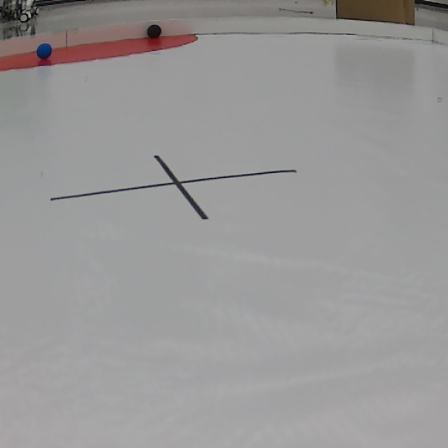black: (147, 23, 163, 38)
blue: (34, 40, 52, 60)
red_base: (0, 32, 199, 71)
